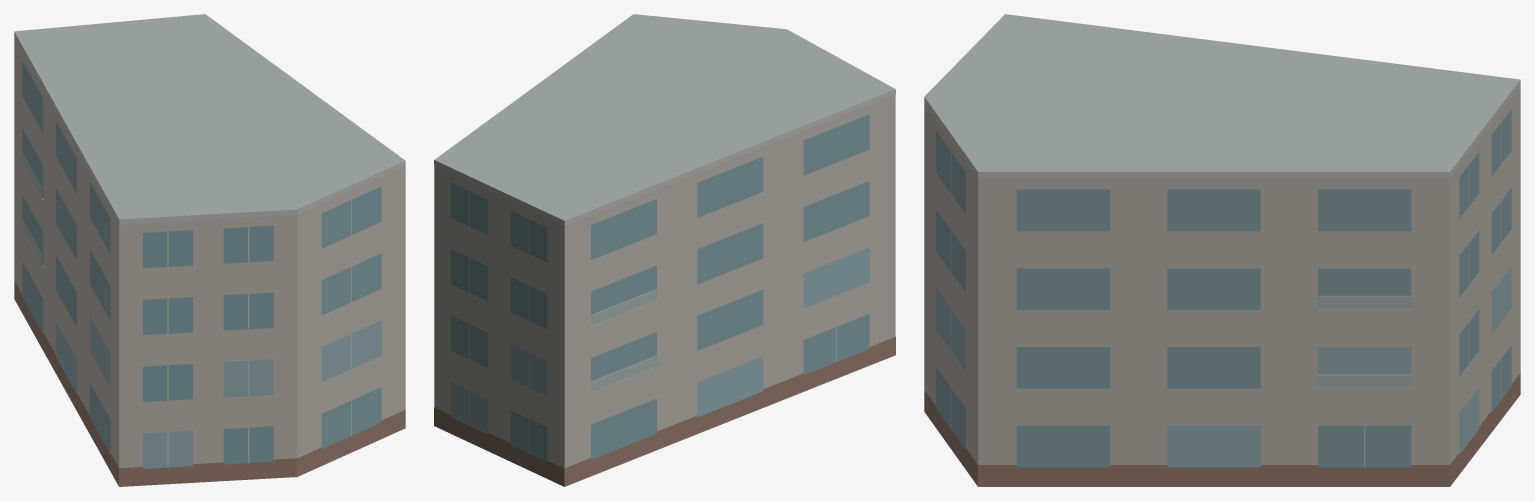
Rendered from residential-595ab04a-f0d0-465b-8126-b6cc6cafaea4.glb.
The picture shows the model from 3 angles, left to right: view 1: azimuth 30°, elevation 25°; view 2: azimuth 150°, elevation 25°; view 3: azimuth 270°, elevation 25°; orthographic projection. The views are drawn at different scales.
Visible parts, largest first — view 1: residential-595ab04a-f0d0-465b-8126-b6cc6cafaea4.tmp; view 2: residential-595ab04a-f0d0-465b-8126-b6cc6cafaea4.tmp; view 3: residential-595ab04a-f0d0-465b-8126-b6cc6cafaea4.tmp.
Part boxes in pixels (left/top/right/bottom): residential-595ab04a-f0d0-465b-8126-b6cc6cafaea4.tmp: left=14, top=14, right=405, bottom=486; residential-595ab04a-f0d0-465b-8126-b6cc6cafaea4.tmp: left=434, top=14, right=895, bottom=486; residential-595ab04a-f0d0-465b-8126-b6cc6cafaea4.tmp: left=924, top=14, right=1520, bottom=486.
Bounding box in the file's own units: 13.17 × 12.2 × 20.95.
